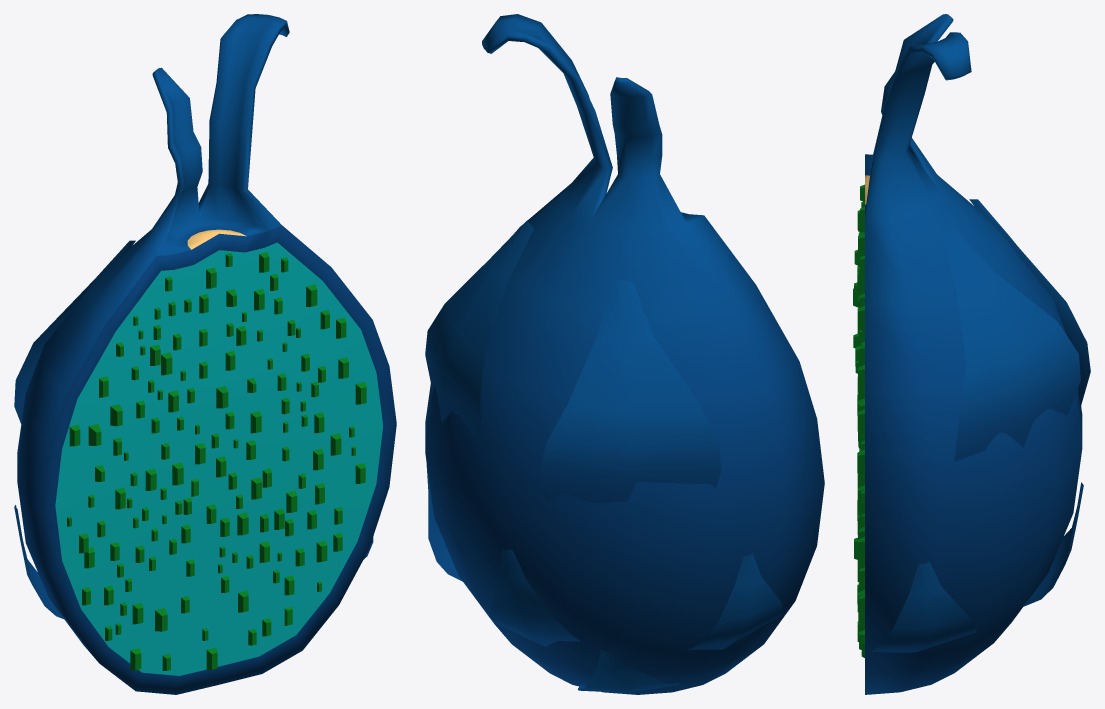
File: Pitaya_half_pink.fbx
The picture shows the model from 3 angles, left to right: view 1: azimuth 30°, elevation 25°; view 2: azimuth 150°, elevation 25°; view 3: azimuth 270°, elevation 25°; orthographic projection. The views are drawn at different scales.
Visible parts, largest first — view 1: Pitaya_half_pink; view 2: Pitaya_half_pink; view 3: Pitaya_half_pink.
Boxes of the visible parts, <box> form: Pitaya_half_pink: <box>14,14,396,694</box>; Pitaya_half_pink: <box>425,14,824,694</box>; Pitaya_half_pink: <box>853,14,1090,694</box>.
Size of the model in its own units: 103 by 172 by 55.67.
